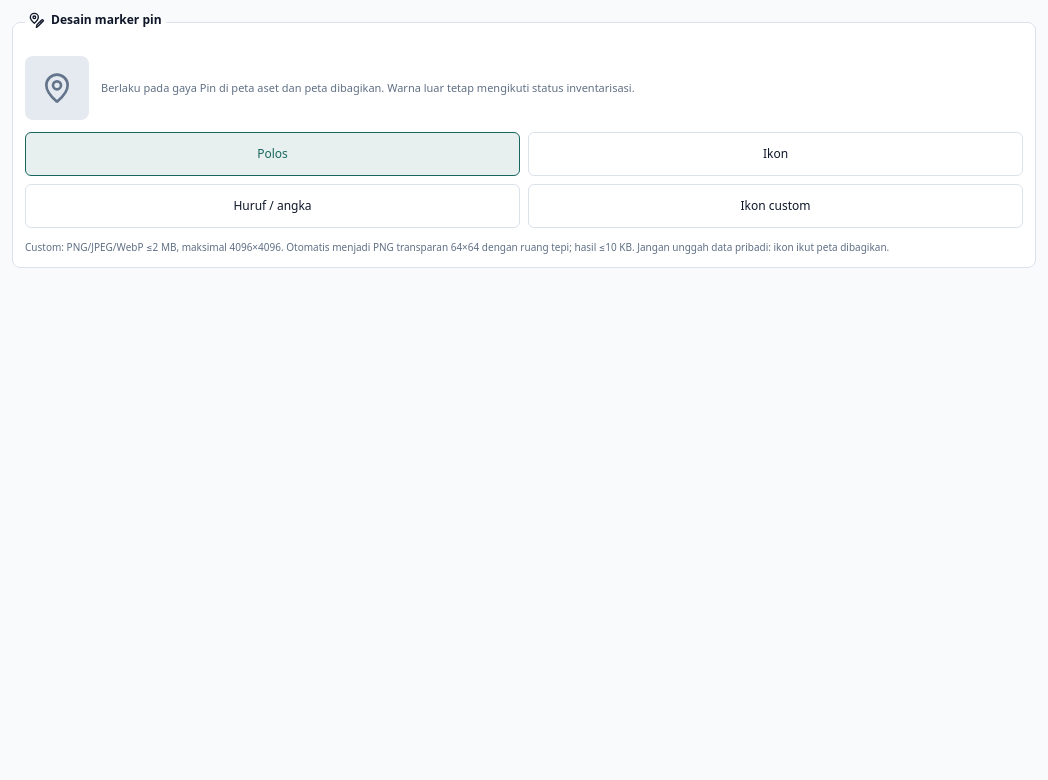
Scenario: mode huruf mengganti desain dan tetap ada pratinjau
Step 1. Click the button with test id "marker-mode-text" → (272, 206), box [25, 184, 520, 228]
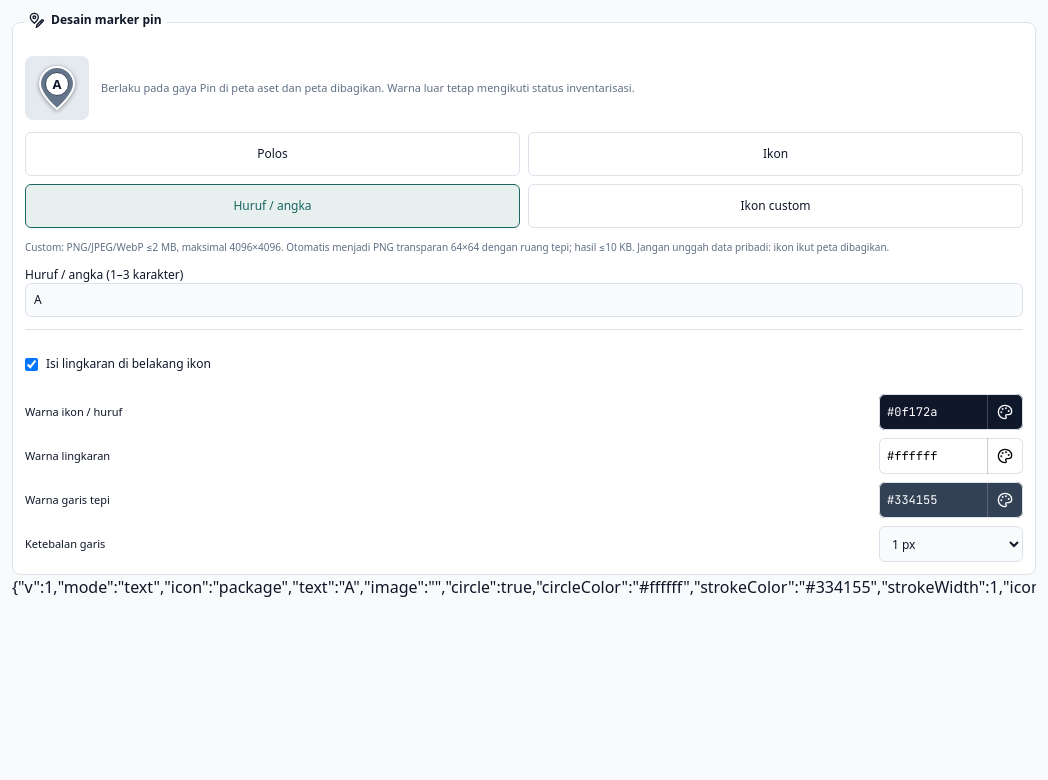
Step 2. Replace the text in the field with test id "marker-text" with "IKN" → (524, 300), box [25, 283, 1023, 317]
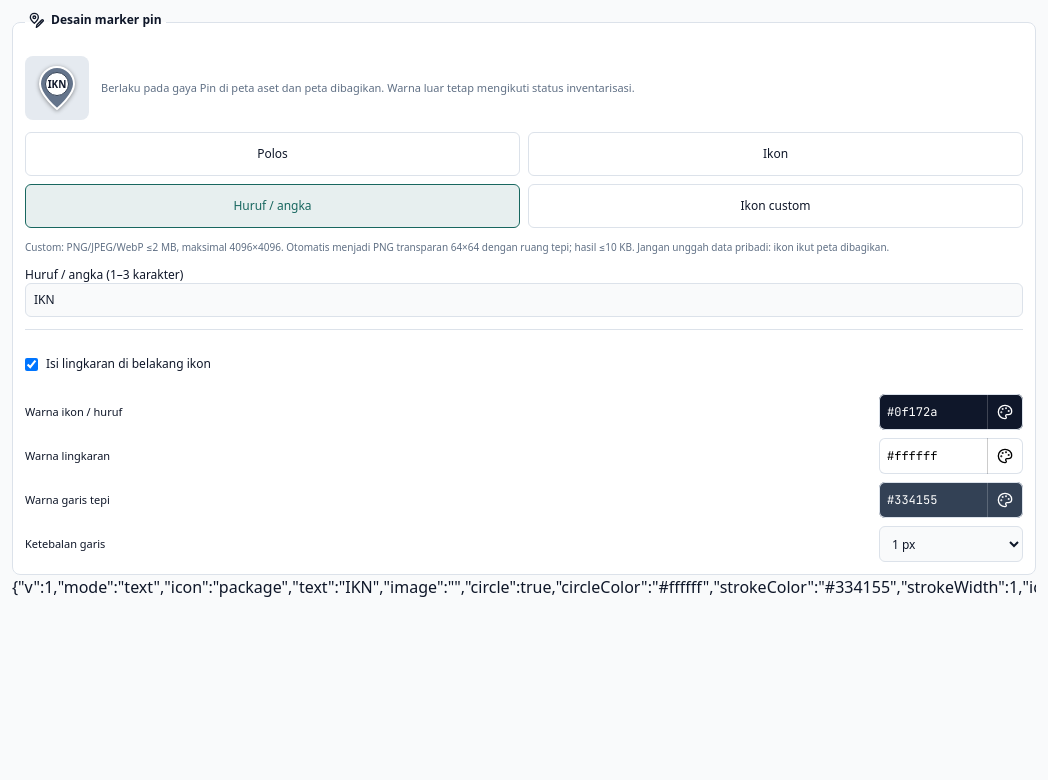
Result: the element with test id "marker-pin-preview" reads "IKN" at [48, 77, 66, 91]
